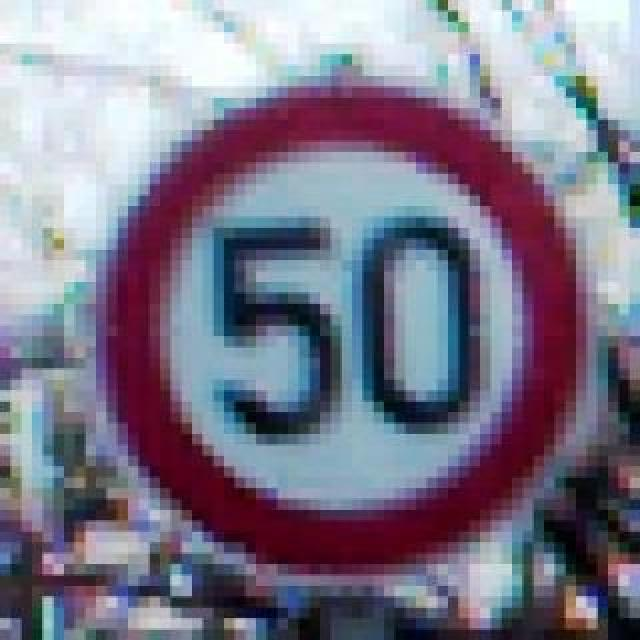50 kph: (86, 64, 588, 564)
